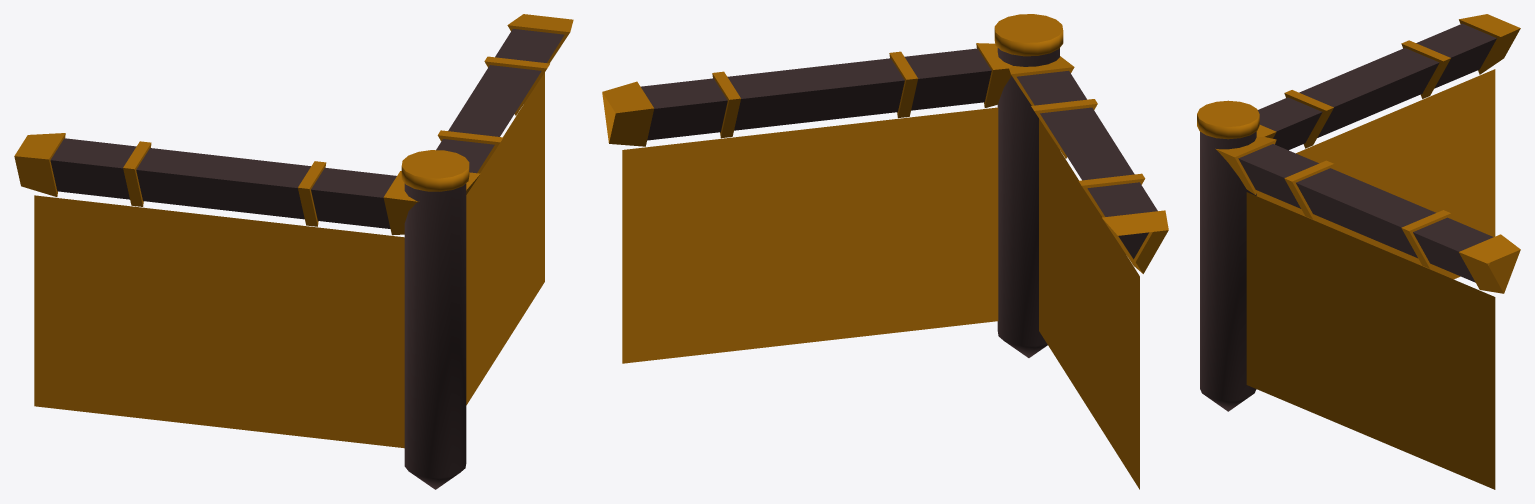
File: Railing Short Jut.fbx
3 views of the same model, side by side, from view 1: azimuth 30°, elevation 25°; view 2: azimuth 150°, elevation 25°; view 3: azimuth 270°, elevation 25° (orthographic). The views are drawn at different scales.
Visible parts, largest first — view 1: Railing Short Jut; view 2: Railing Short Jut; view 3: Railing Short Jut.
Boxes of the visible parts, x1=… form: Railing Short Jut: x1=14, y1=14, x2=573, y2=489; Railing Short Jut: x1=602, y1=14, x2=1168, y2=489; Railing Short Jut: x1=1197, y1=14, x2=1520, y2=489.
Bounding box in the file's own units: 208 × 116 × 114.
